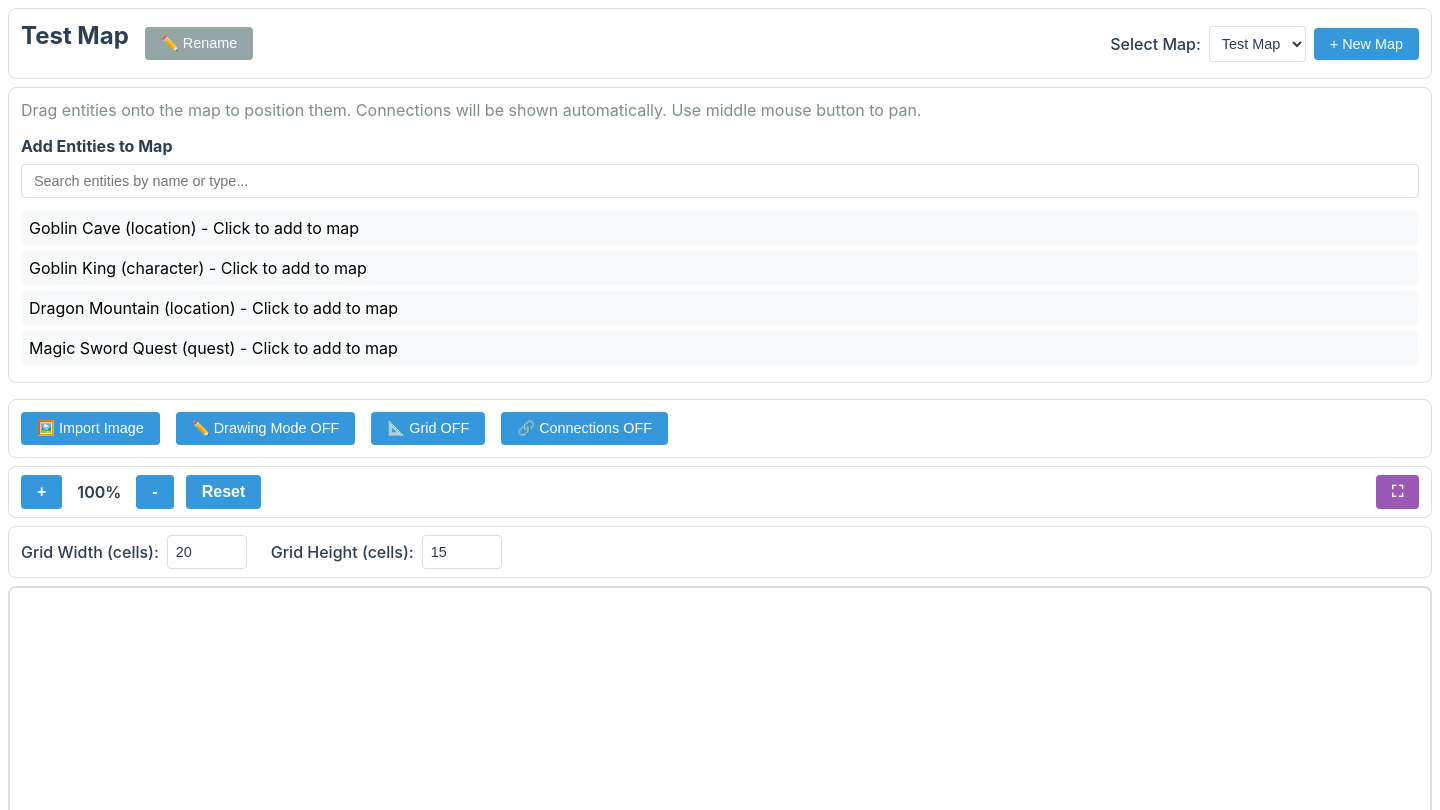
Test: MapEditor Entity Filter › Entity Filter Input › filters entities by type
In the field with placeholder "Search entities by name or type...": (720, 181) [21,164,1419,198], type "location"
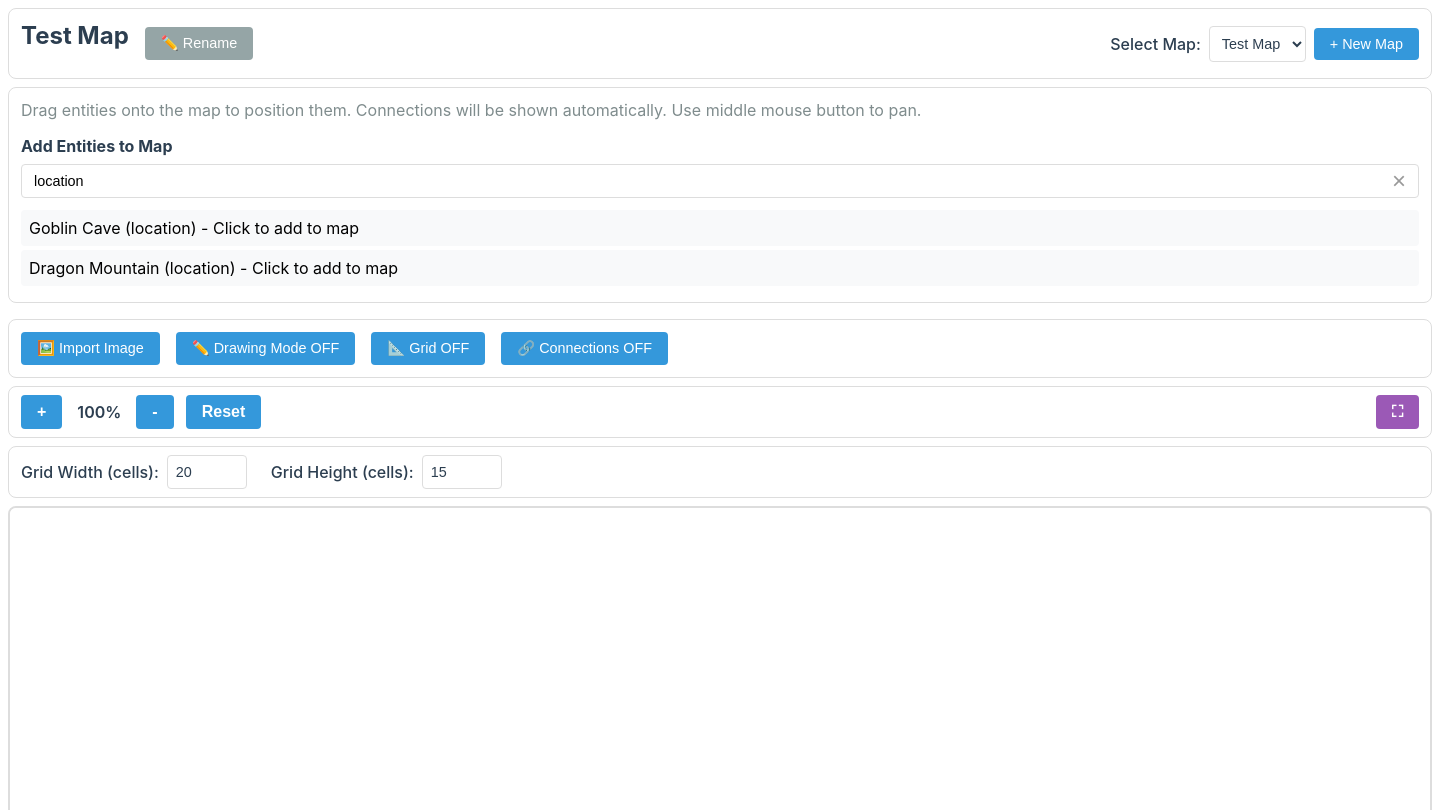
Expected: the list item "Goblin Cave (location) - Click to add to map" is shown, [21,210,1419,246]
Now the list item "Goblin King" is gone
Now the list item "Magic Sword Quest" is gone
